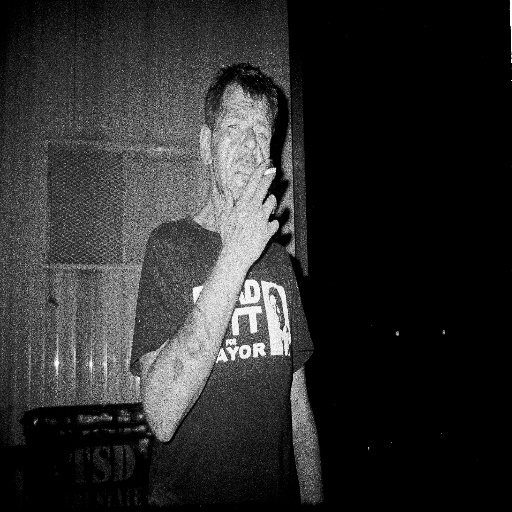hand: (200, 164, 288, 281)
